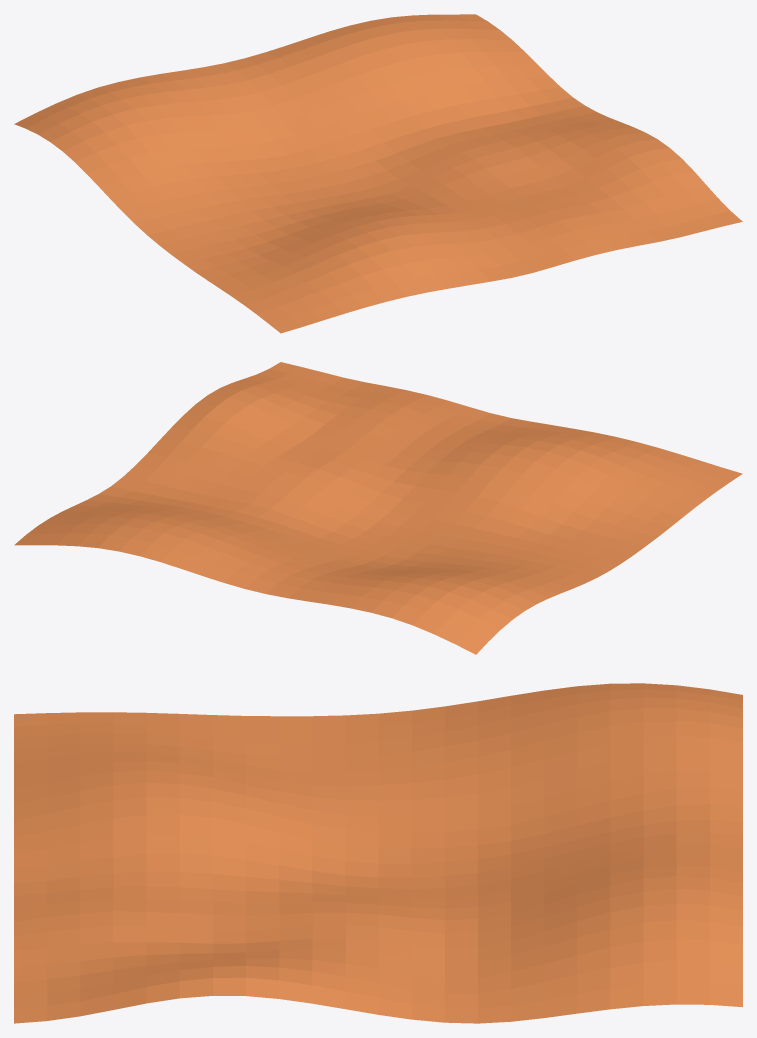
The model's file is terrain.glb.
The picture shows the model from 3 angles, top to bottom: view 1: azimuth 30°, elevation 25°; view 2: azimuth 150°, elevation 25°; view 3: azimuth 270°, elevation 25°; orthographic projection. The views are drawn at different scales.
Visible parts, largest first — view 1: Plane; view 2: Plane; view 3: Plane.
Boxes of the visible parts, box(x1,y1,x2,y2) form: Plane: box(14, 14, 742, 333); Plane: box(14, 362, 742, 654); Plane: box(14, 683, 742, 1023).
Size of the model in its own units: 20 by 1.79 by 20.
